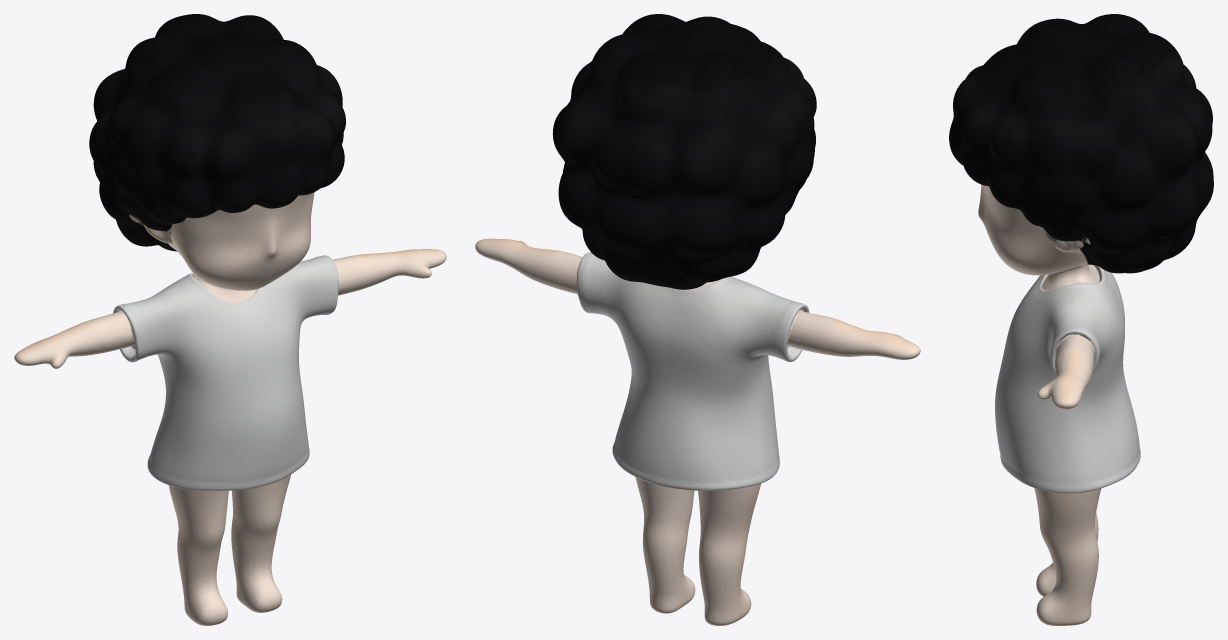
Rendered from baked_nhair_curly.glb.
3 views of the same model, side by side, from view 1: azimuth 30°, elevation 25°; view 2: azimuth 150°, elevation 25°; view 3: azimuth 270°, elevation 25° (orthographic). The views are drawn at different scales.
Size of the model in its own units: 1.49 by 1.9 by 0.7886.
1 material, 1 textured.
